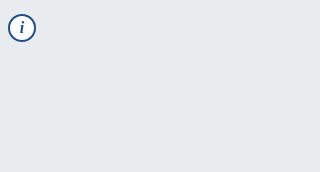
it: shows on hover and focus, linked by aria-describedby
Hover over the button named "About x" at (22, 28), box [8,14,36,42]
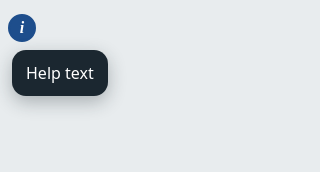
Now the tooltip reads "Help text", box [26,62,94,84]
Move the pointer off the button named "About x", box [8,14,36,42]
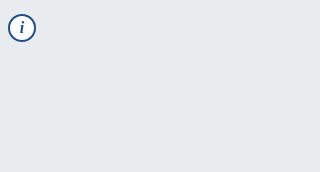
Now the tooltip "Help text" is gone
Press Tab
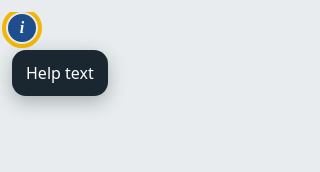
Now the tooltip "Help text" is shown, box [12,50,108,96]
